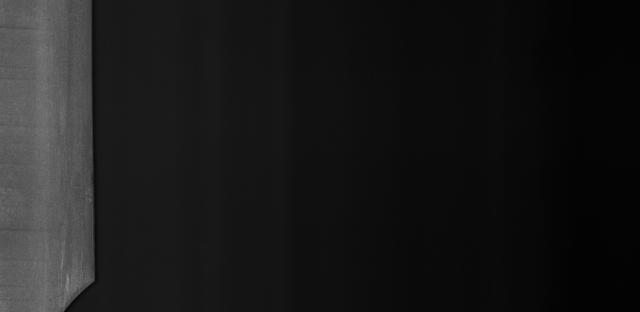crescent_gap: (49, 265, 106, 312)
